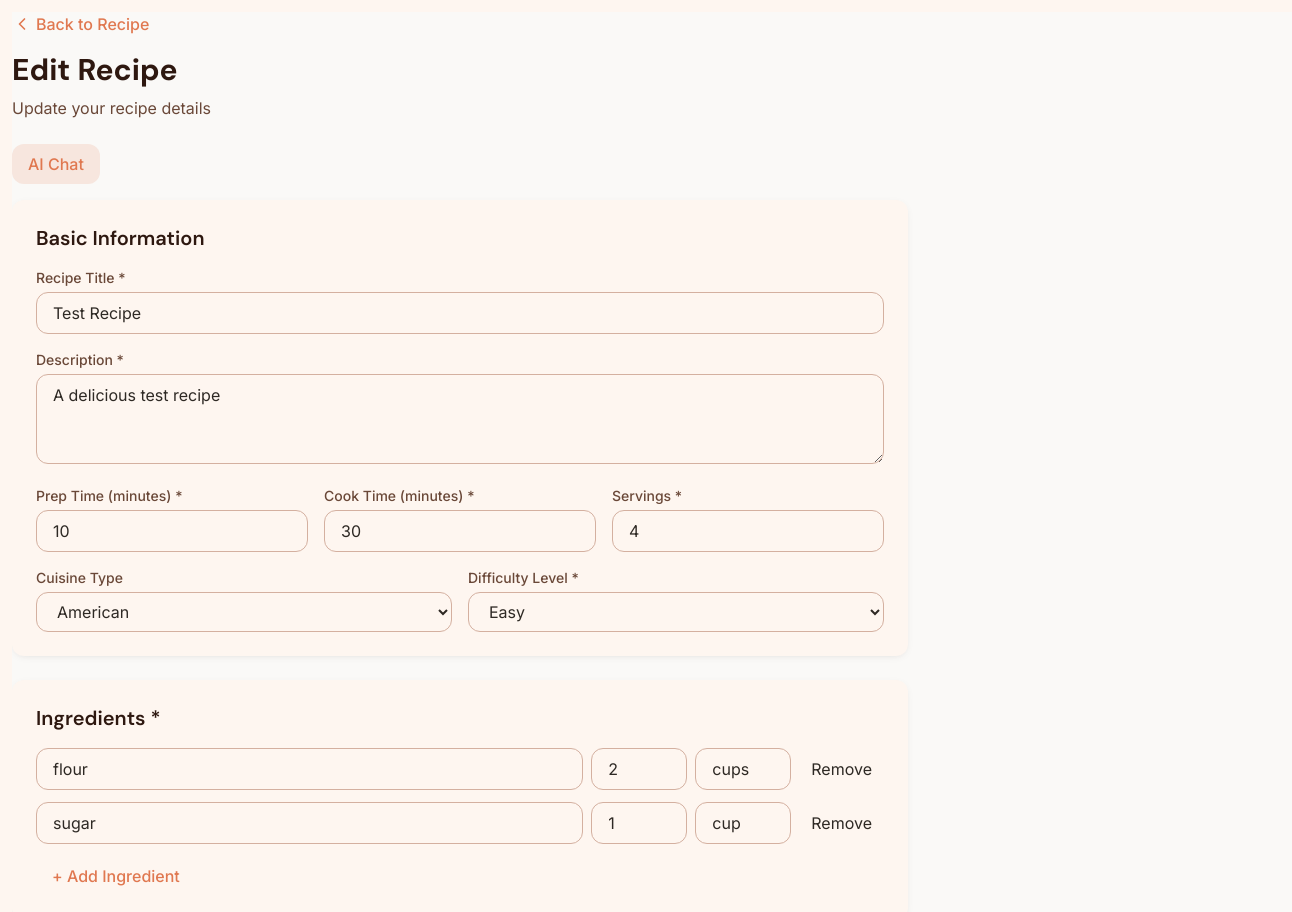
Scenario: EditRecipePage - Chat Integration › chat on edit page sends recipe_id with requests
The width and height of the screenshot is (1292, 912).
Expected: the heading "Edit Recipe" is shown, [12,50,178,89]
Click the button "AI Chat".
click(56, 164)  # box [12,144,100,184]
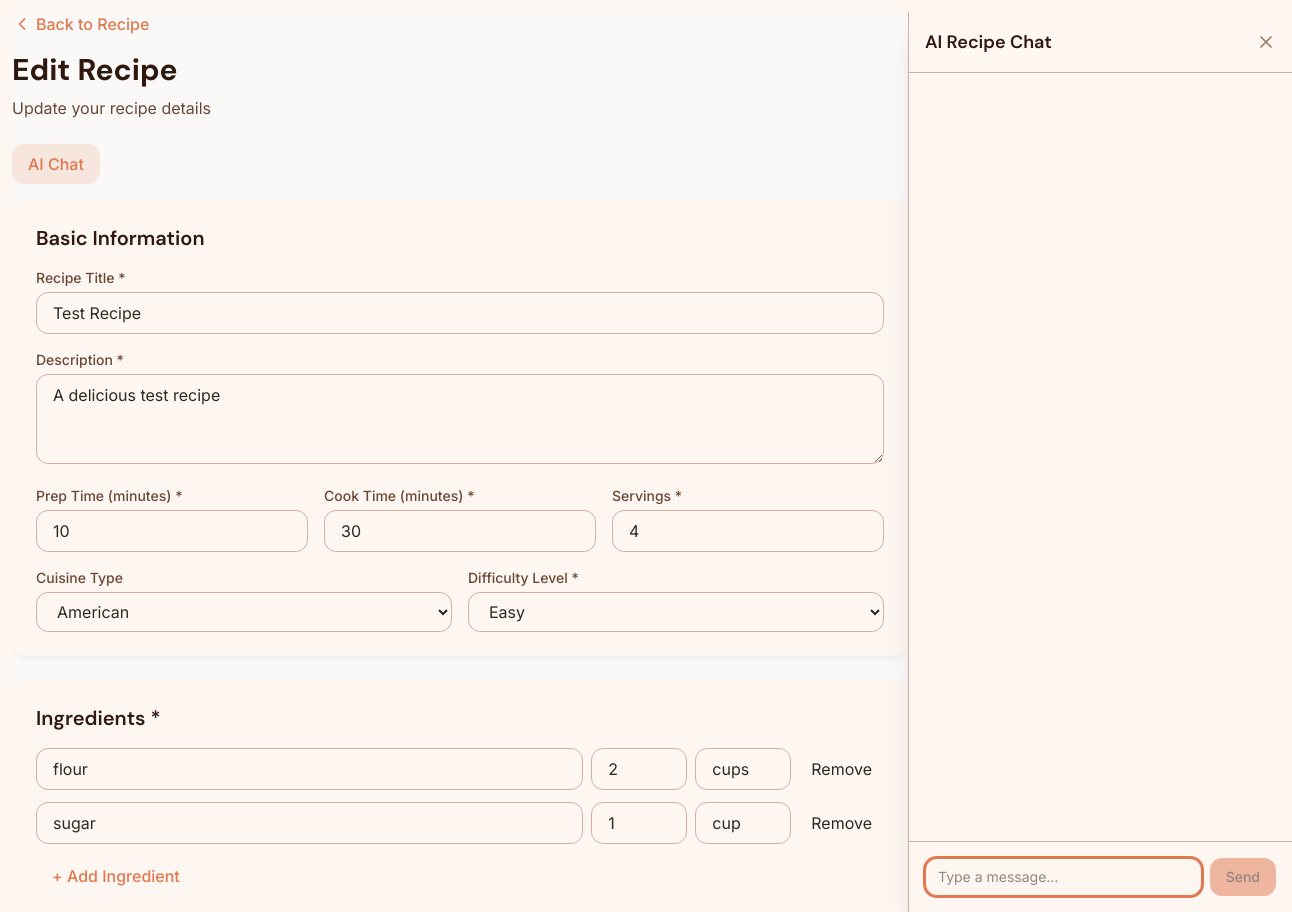
Type "hello" into the field labelled "Type a message...".
click(1063, 877); type("hello")  # box [925,858,1202,896]
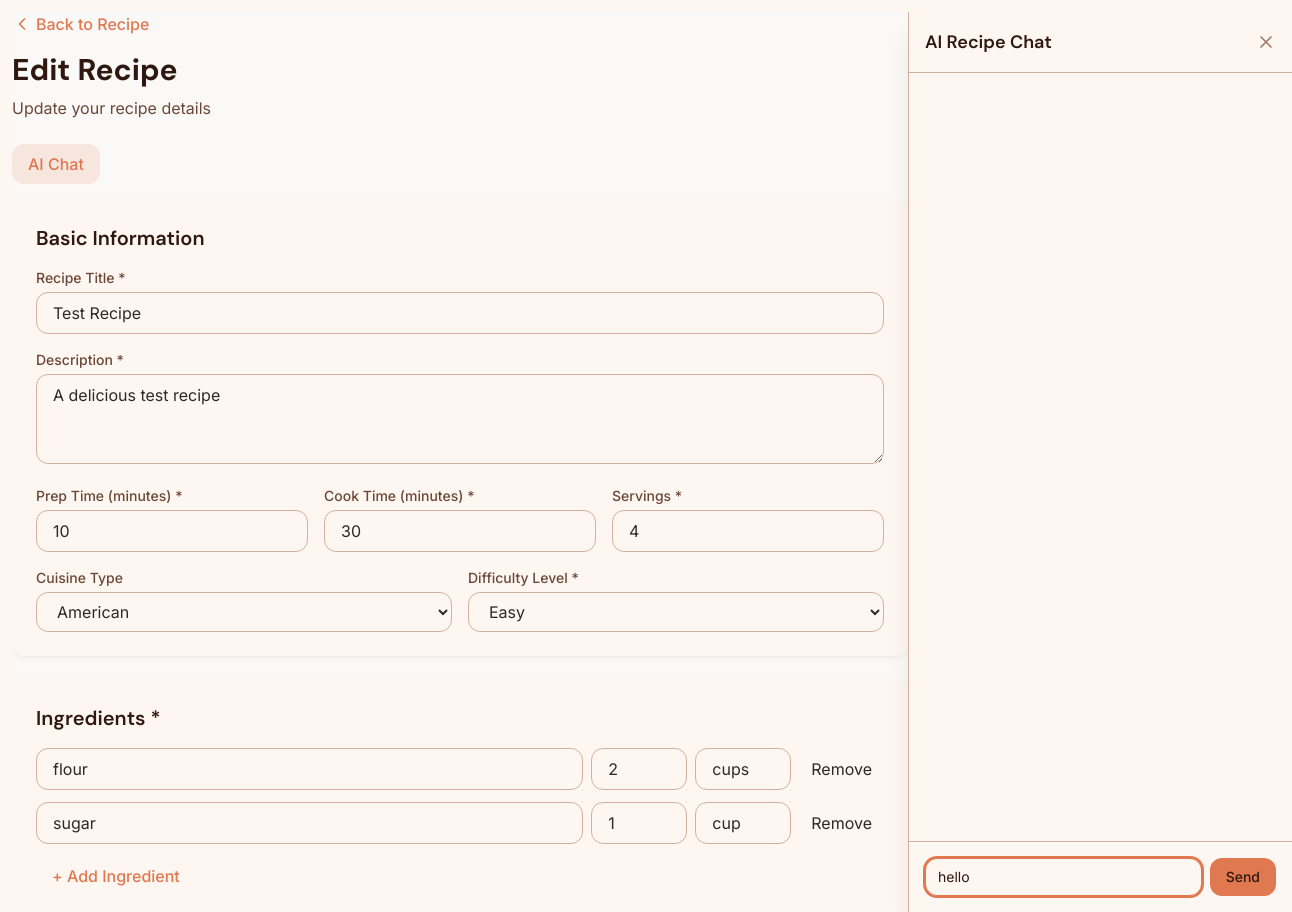
Click the button "Send".
click(1243, 877)  # box [1210,858,1276,896]
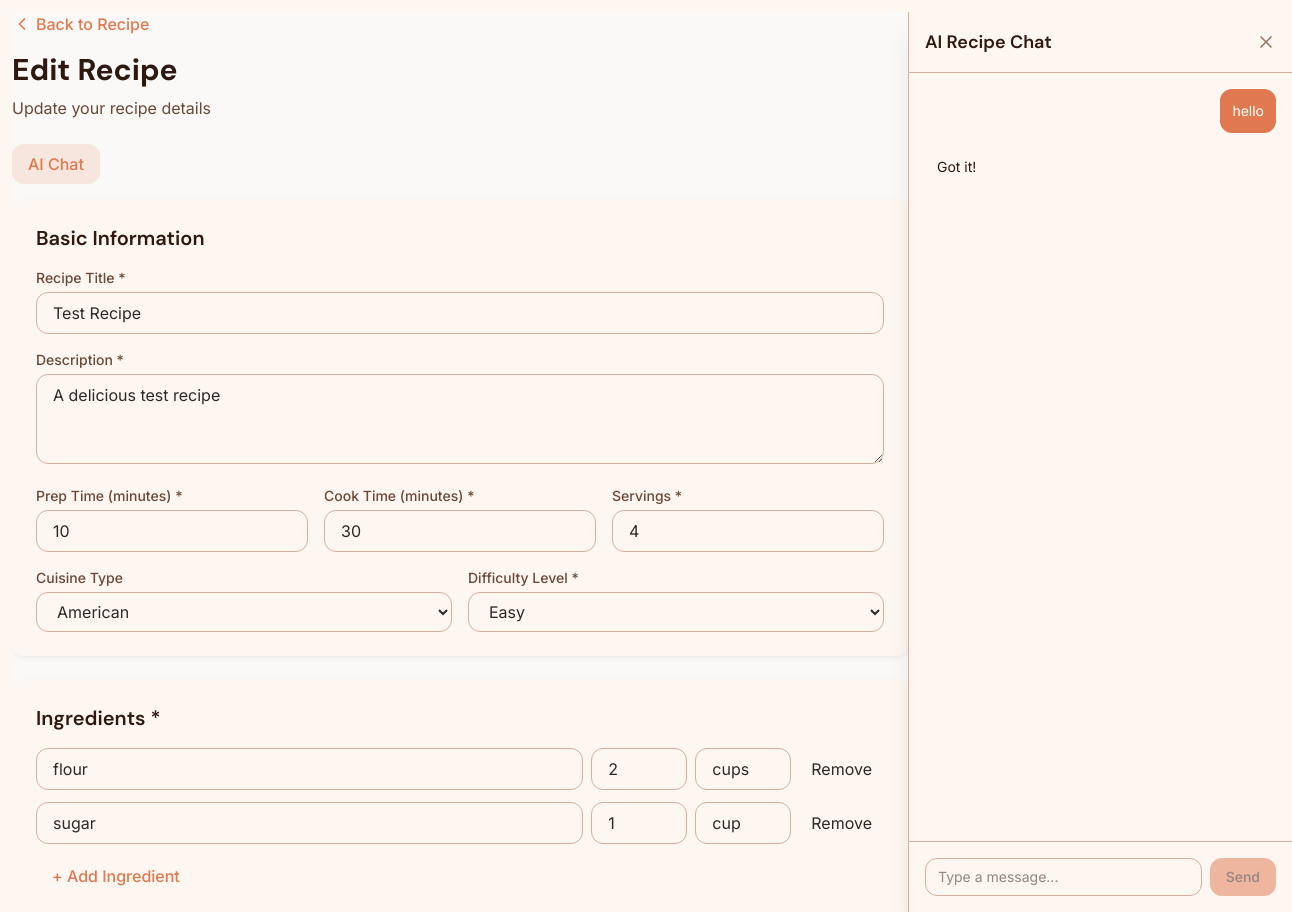
Expected: the text "Got it!" is shown, [937,157,976,177]
